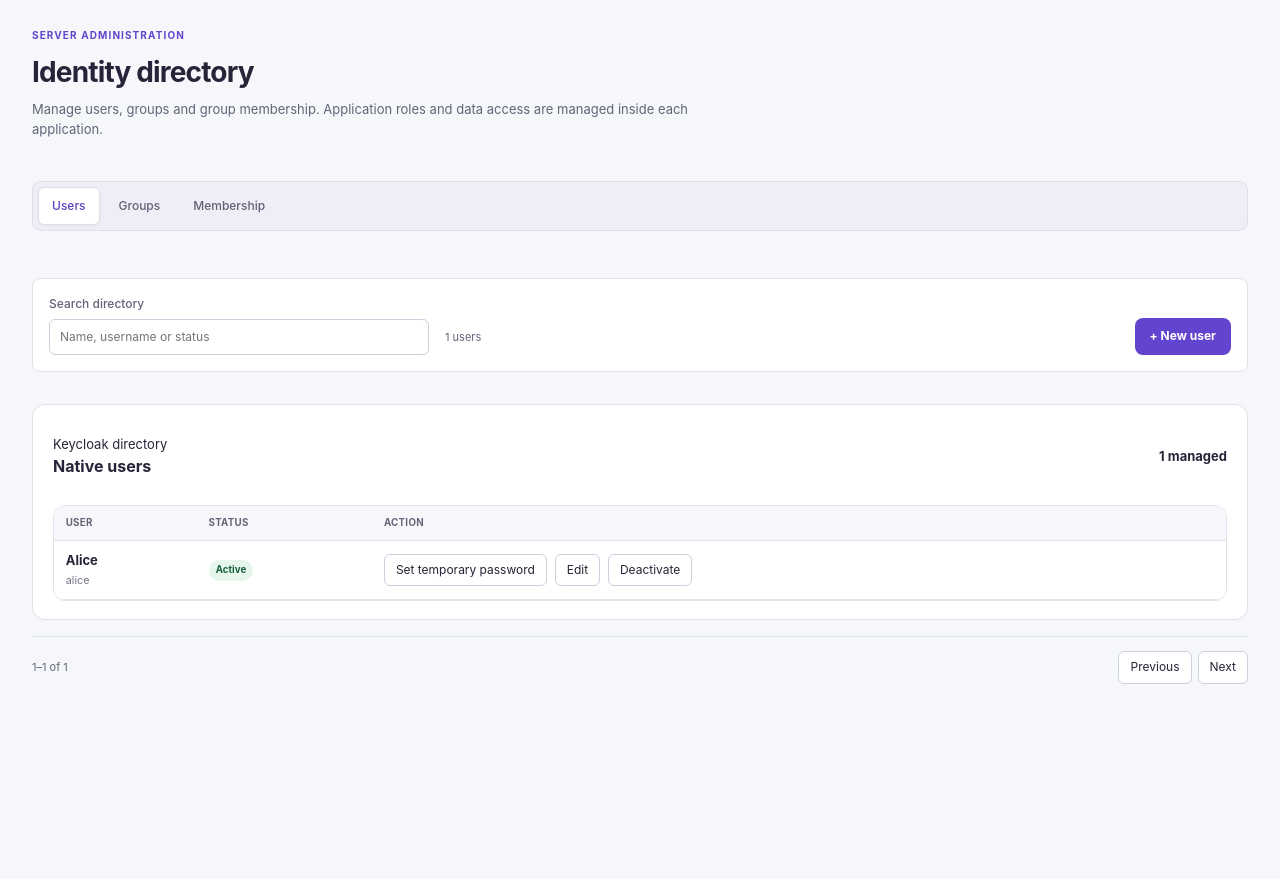
recovers a committed group change after navigating without sending another write
Expected: the text "Alice" is shown, x1=66 y1=552 x2=98 y2=568
Click the button "Groups": (139, 206) x1=104 y1=187 x2=174 y2=225
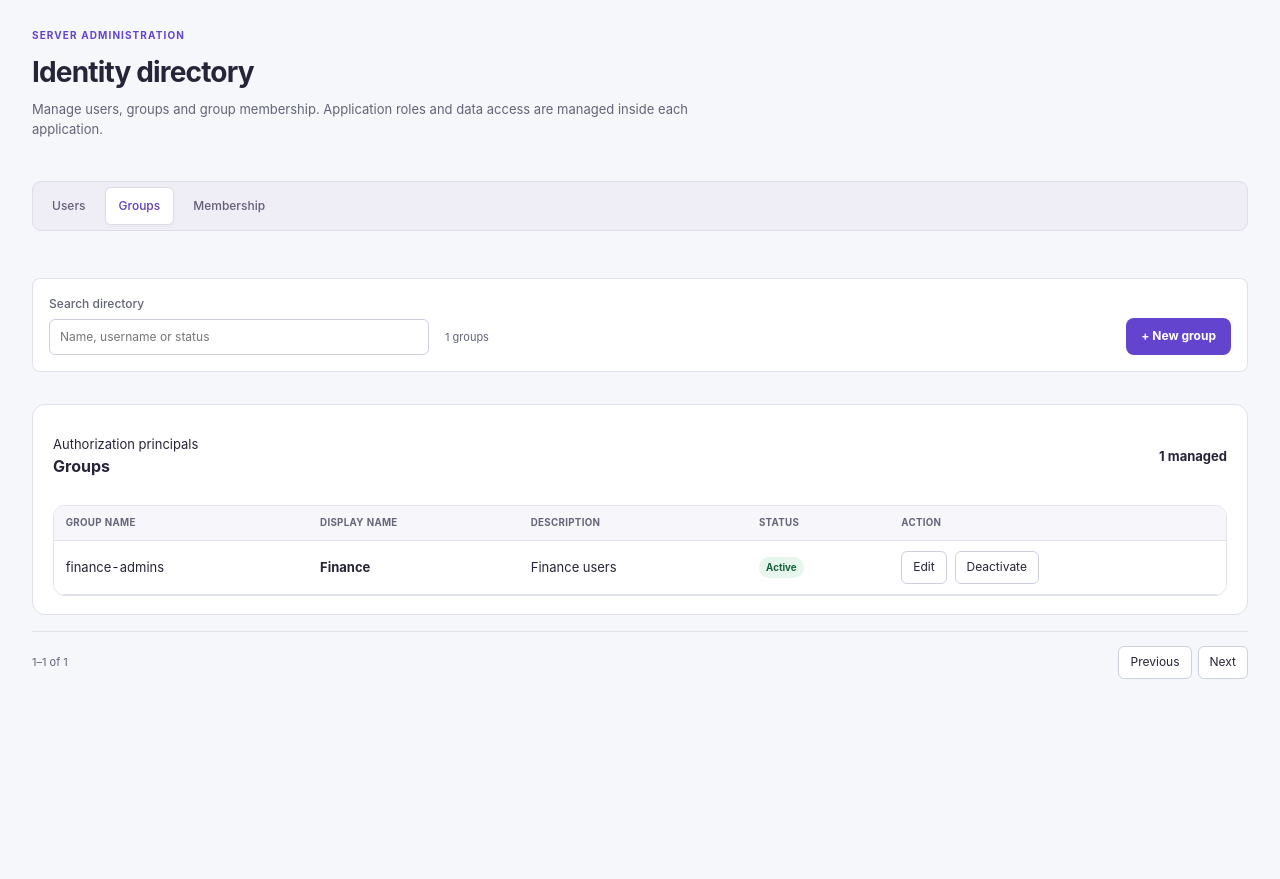
Expected: the text "Finance" is shown, x1=320 y1=559 x2=370 y2=575
Click the button "Deactivate": (997, 568) x1=954 y1=551 x2=1039 y2=584
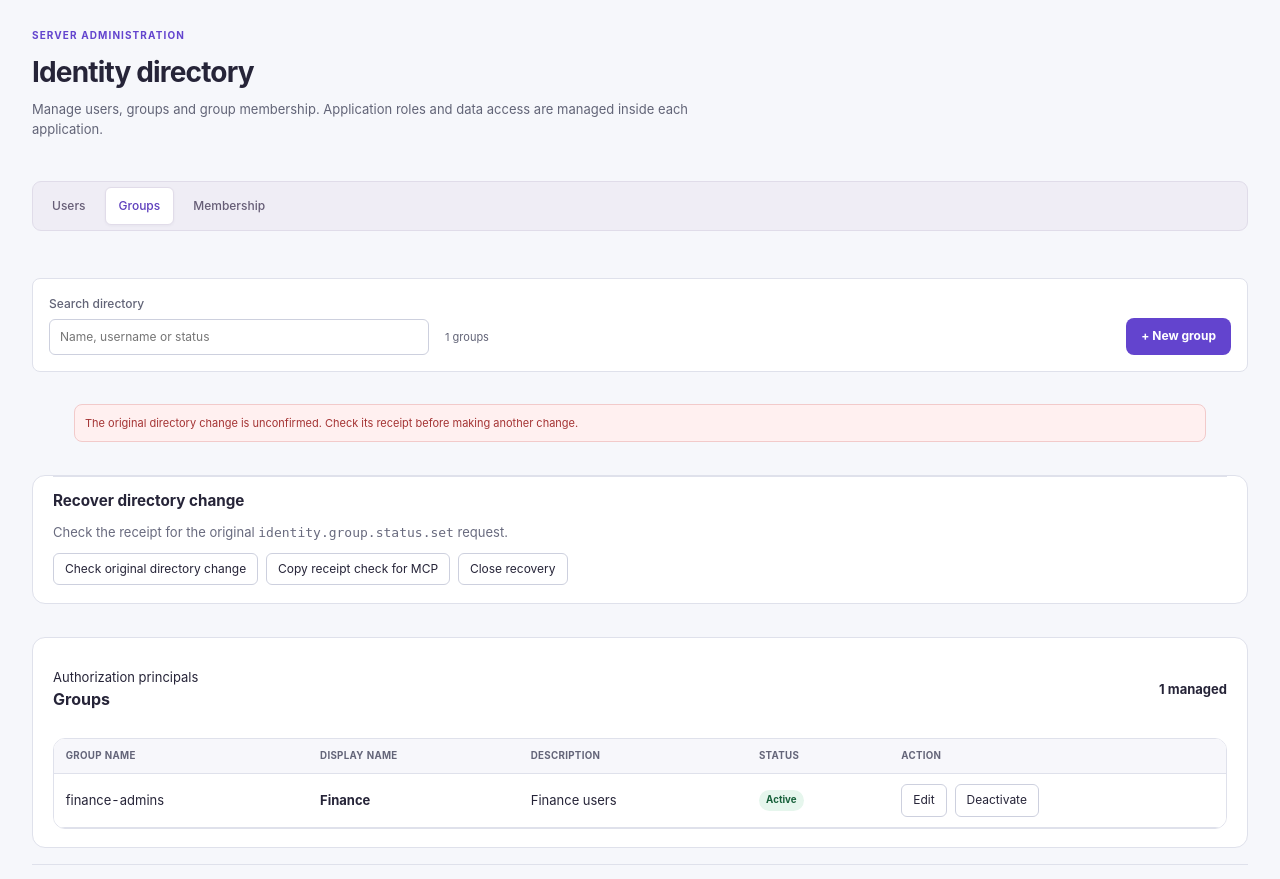
Expected: the button "Edit" is disabled, x1=901 y1=784 x2=947 y2=817
Click the button "Check original directory change": (156, 569) x1=53 y1=553 x2=258 y2=585
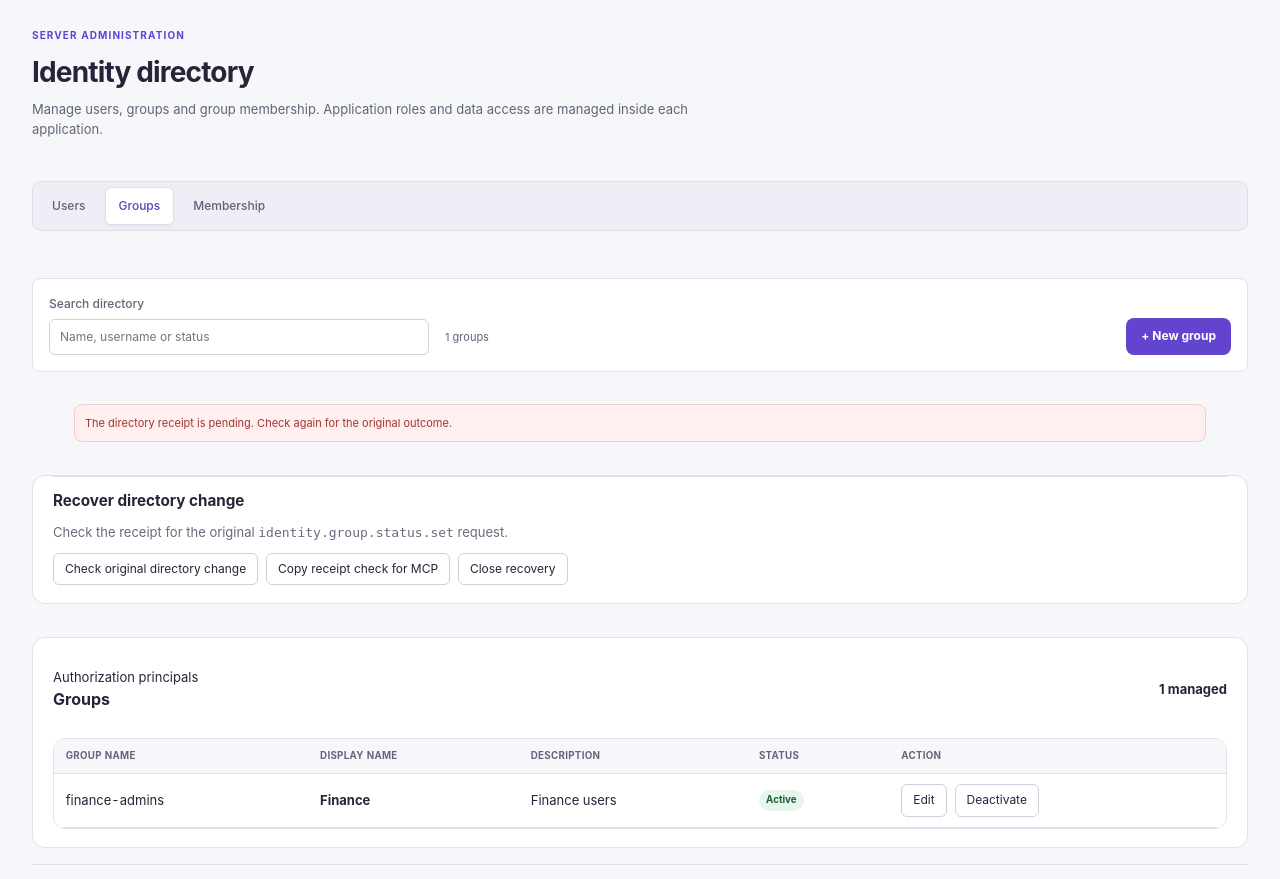
Expected: the text "The directory receipt is pending. Check again for the original outcome." is shown, x1=74 y1=404 x2=1206 y2=442
Click the button "Membership": (229, 206) x1=179 y1=187 x2=279 y2=225
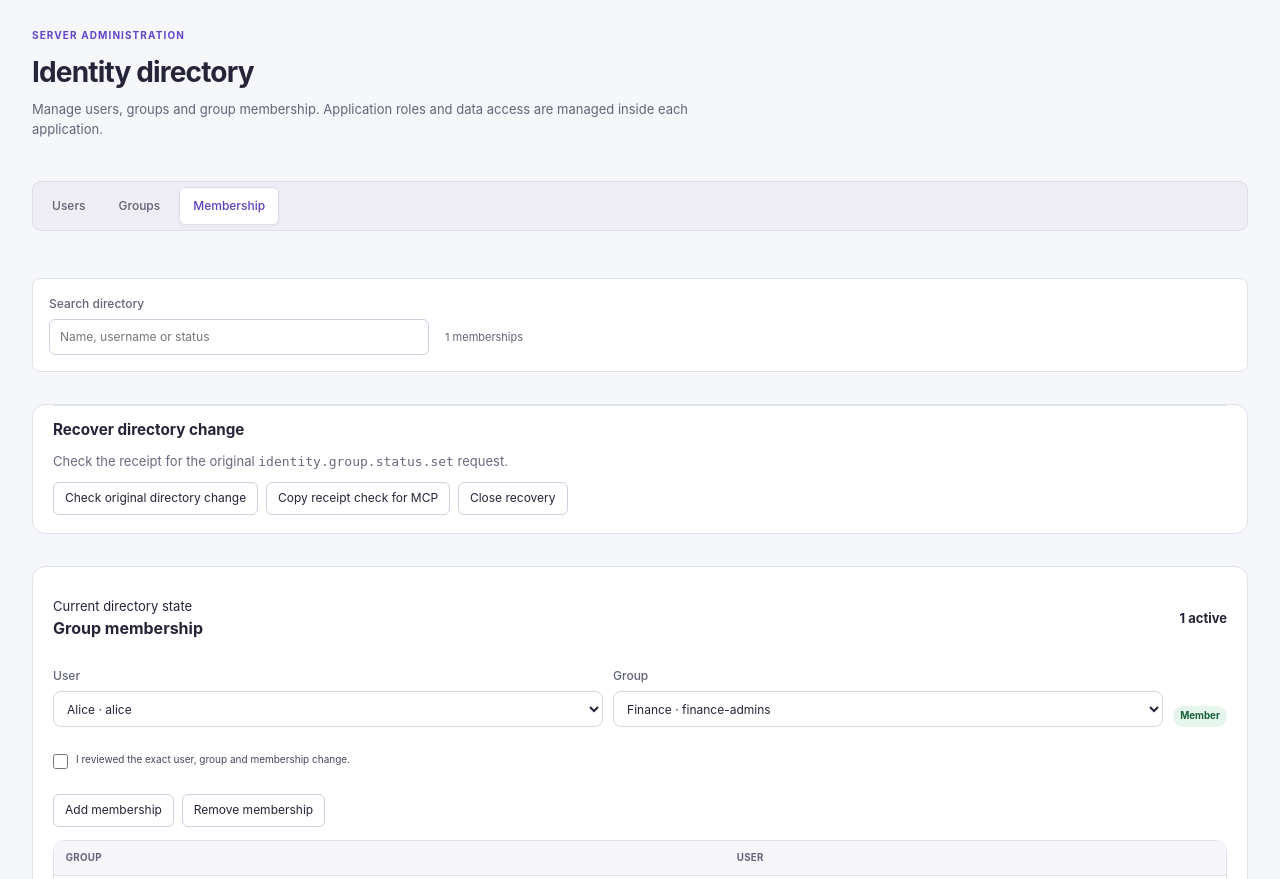
Expected: the text "Member" is shown, x1=1173 y1=706 x2=1227 y2=727
Click the button "Check original directory change": (156, 498) x1=53 y1=482 x2=258 y2=515
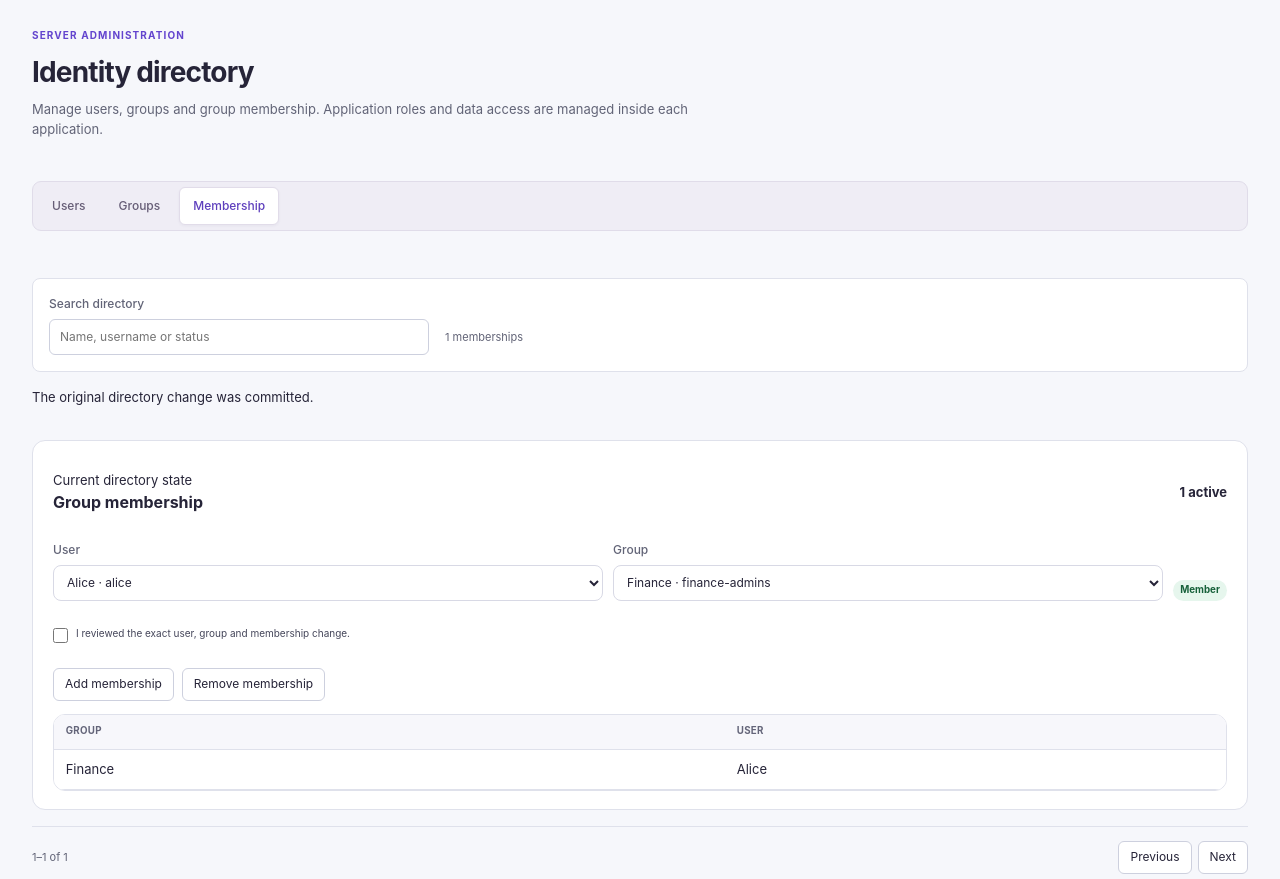
Expected: the text "The original directory change was committed." is shown, x1=32 y1=389 x2=314 y2=405
